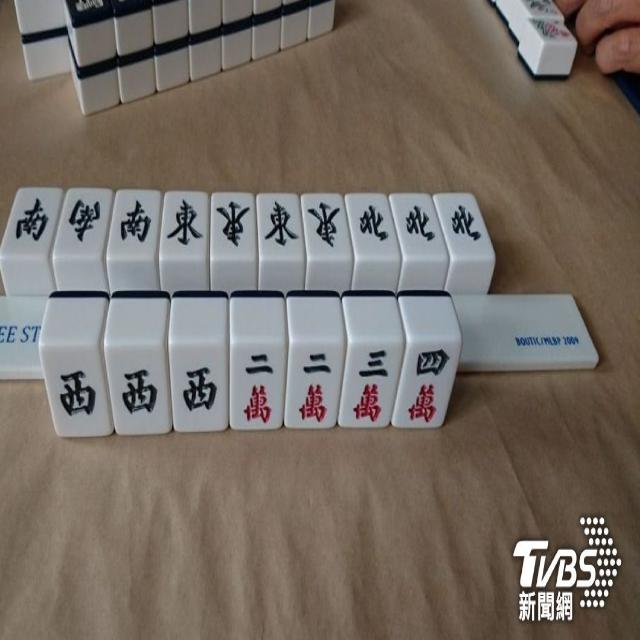east: (164, 192, 207, 253), (211, 196, 253, 257), (260, 196, 300, 256), (306, 198, 345, 258)
m2: (288, 346, 340, 428), (234, 346, 283, 428)
m3: (338, 344, 402, 428)
m4: (391, 344, 459, 428)
north: (433, 196, 495, 260), (391, 194, 446, 258), (348, 197, 391, 256)
south: (10, 189, 63, 253), (62, 191, 111, 253), (114, 192, 159, 253)
west: (45, 350, 111, 436), (107, 349, 171, 433), (167, 347, 226, 430)
